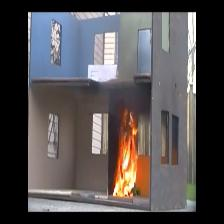fire: (117, 116, 136, 197)
smoke: (115, 87, 151, 107)
